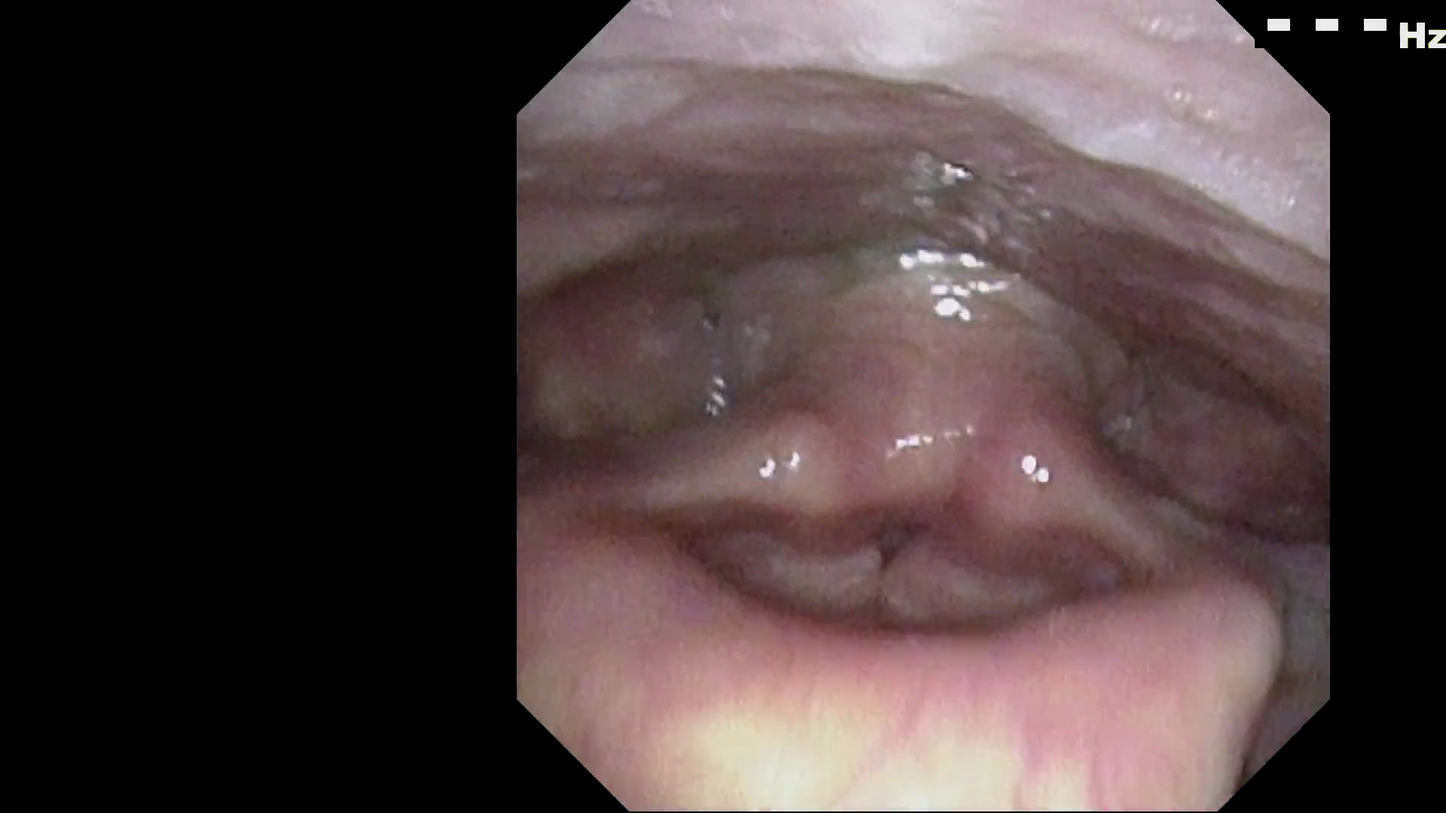epiglottis: (513, 509, 1286, 793)
trachea: (815, 443, 977, 634)
